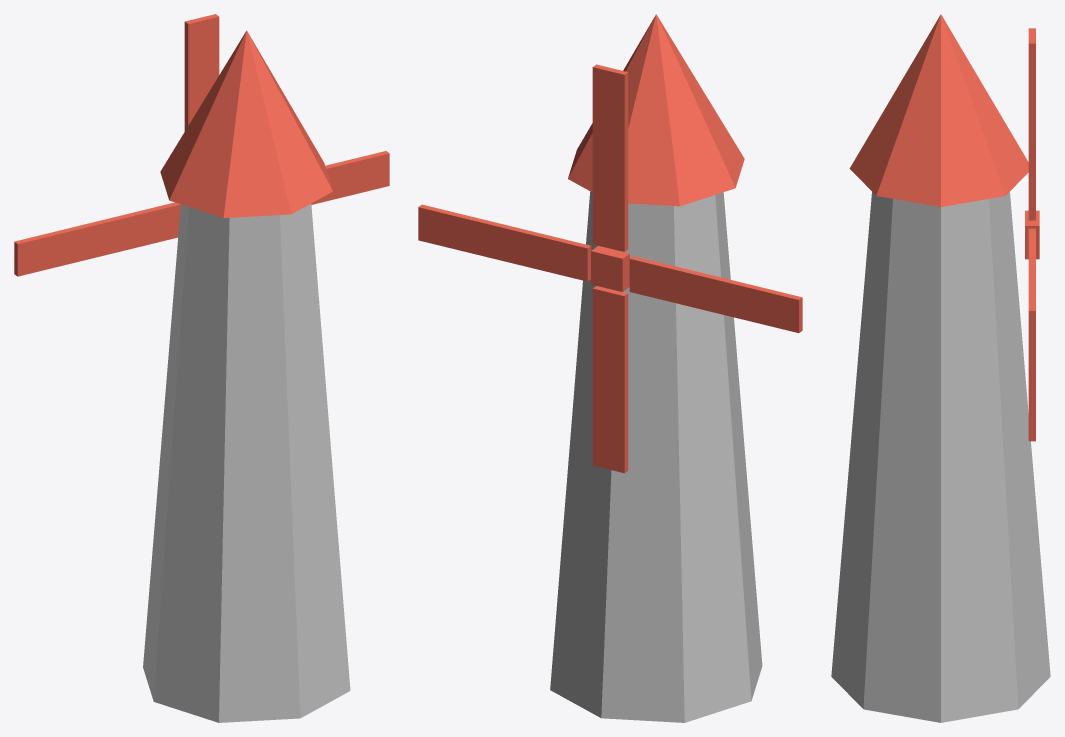
File: scenery2.glb
3 views of the same model, side by side, from view 1: azimuth 30°, elevation 25°; view 2: azimuth 150°, elevation 25°; view 3: azimuth 270°, elevation 25° (orthographic). The views are drawn at different scales.
Parts seen in each view (by area): view 1: root_mesh, blades_mesh; view 2: root_mesh, blades_mesh; view 3: root_mesh, blades_mesh.
Part boxes in pixels (x1,y1,x2,y2): root_mesh: (143, 30, 350, 722); blades_mesh: (14, 14, 389, 276); root_mesh: (550, 14, 762, 722); blades_mesh: (418, 64, 802, 473); root_mesh: (831, 14, 1050, 722); blades_mesh: (1025, 28, 1039, 441).
Size of the model in its own units: 3.6 by 6 by 1.8.
